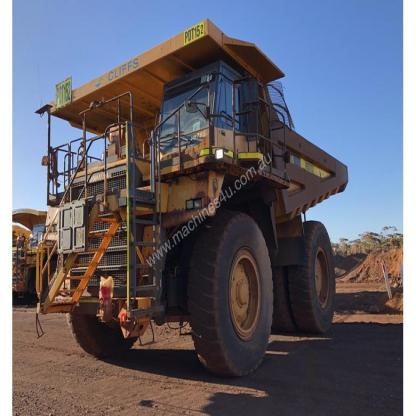dump_truck: (40, 17, 354, 372)
